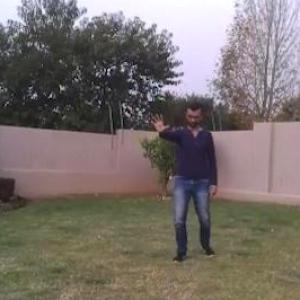follow_hand: (146, 109, 173, 136)
